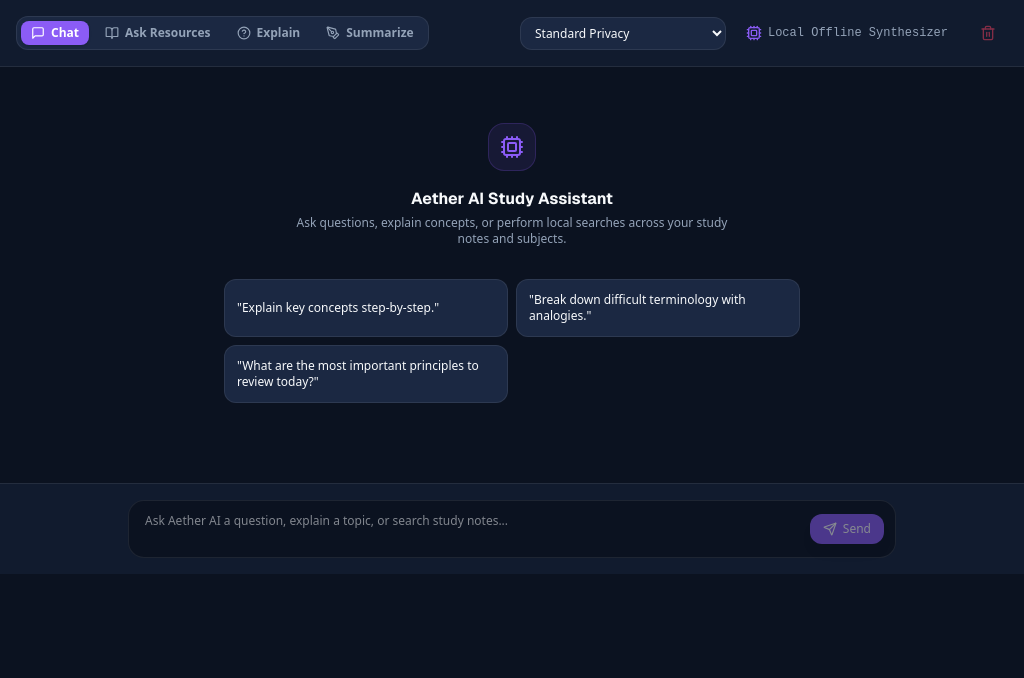
Test case: WP-02 Ask Resources UI › selects notes, removes them, and clears invalid selections on subject change
Click the button "Ask Resources" at (158, 33), box [95,21,220,45]
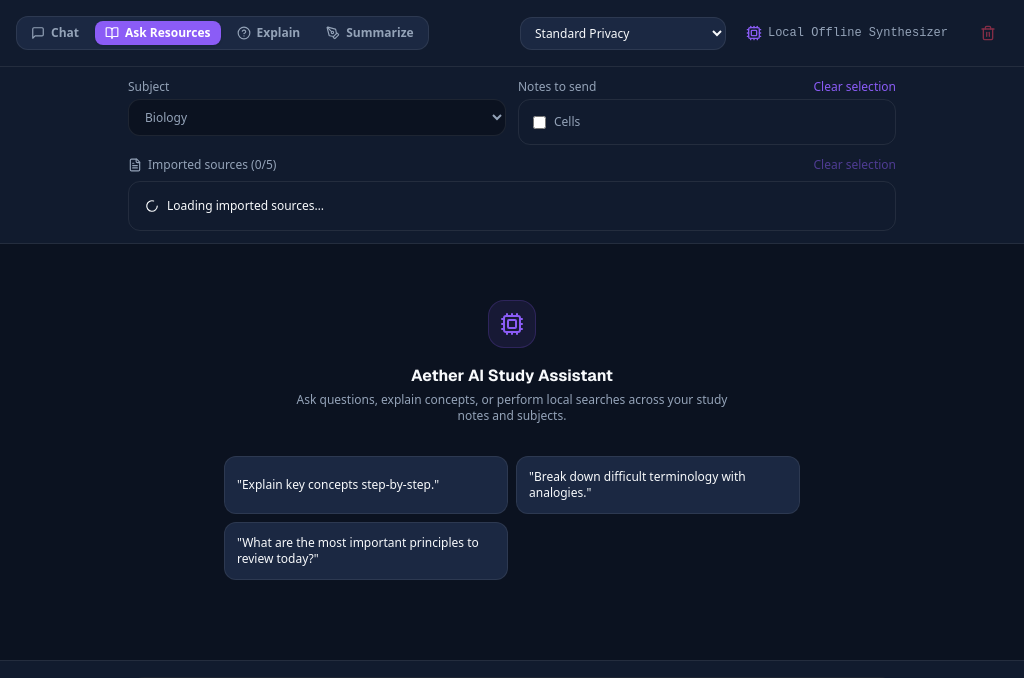
Click the checkbox labelled "Cells" at (540, 122), box [533,116,546,128]
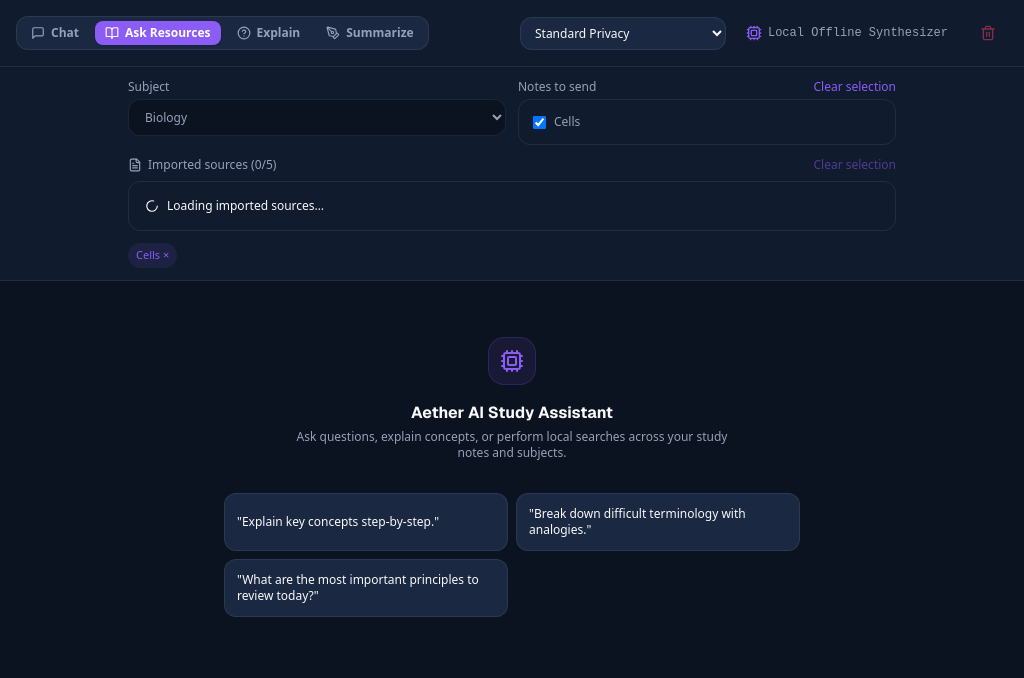
Expected: the checkbox labelled "Cells" is checked, [533,116,546,128]
Expected: the button "Cells ×" is shown, [128,243,177,268]
Select "Physics" in the dropdown named "Grounding subject" at (317, 118), box [128,99,506,136]
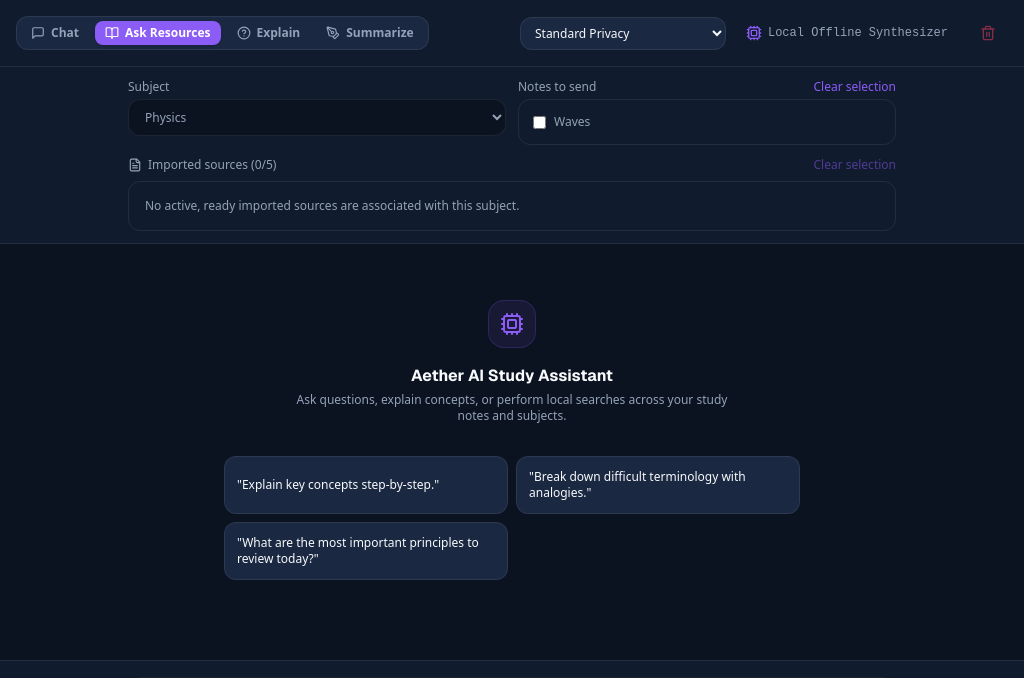
Expected: the button "Cells ×" is gone
Expected: the checkbox labelled "Waves" is not checked, [533,116,546,128]
